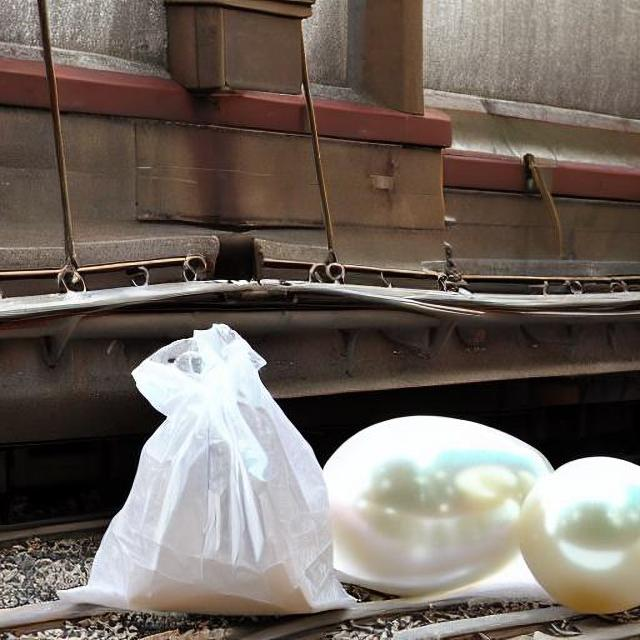balloon: (350, 413, 638, 621)
plastic bag: (90, 320, 342, 614)
